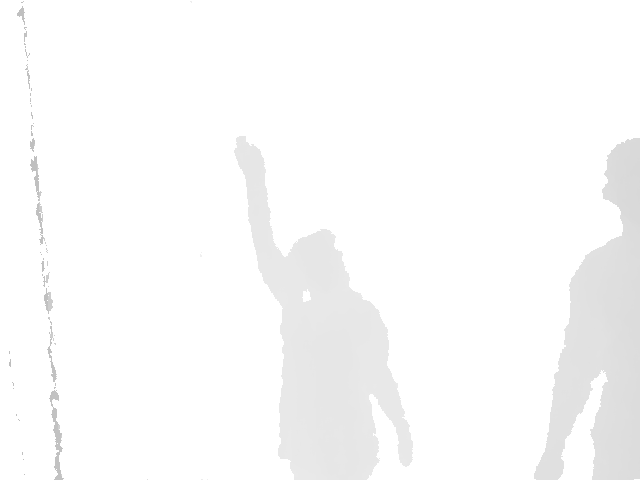hand: (233, 134, 266, 176)
head: (283, 228, 351, 297), (601, 137, 640, 232)
person: (233, 134, 415, 480), (532, 137, 640, 480)
